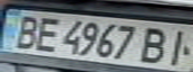4: (57, 17, 84, 56)
6: (93, 20, 121, 60)
7: (112, 21, 145, 61)
9: (75, 19, 100, 57)
B: (133, 24, 178, 65), (3, 12, 45, 50)
E: (27, 15, 63, 53)
I: (157, 26, 193, 66)
